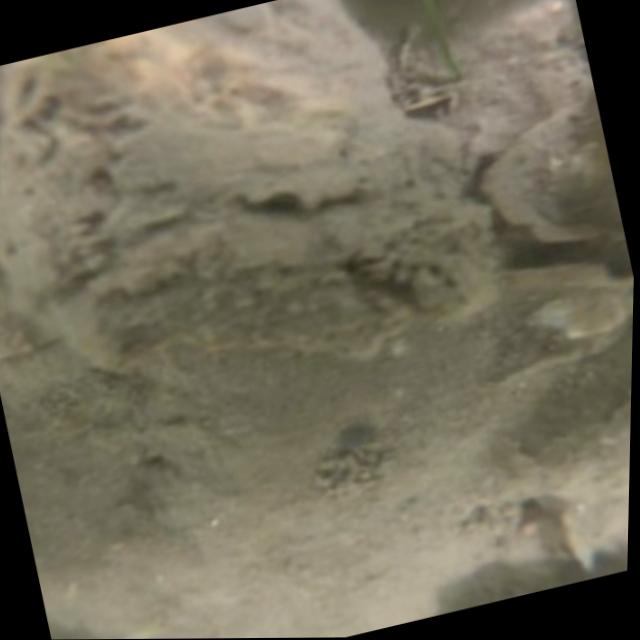Oyster-Indeterminate: (0, 0, 514, 390), (476, 83, 622, 246)
